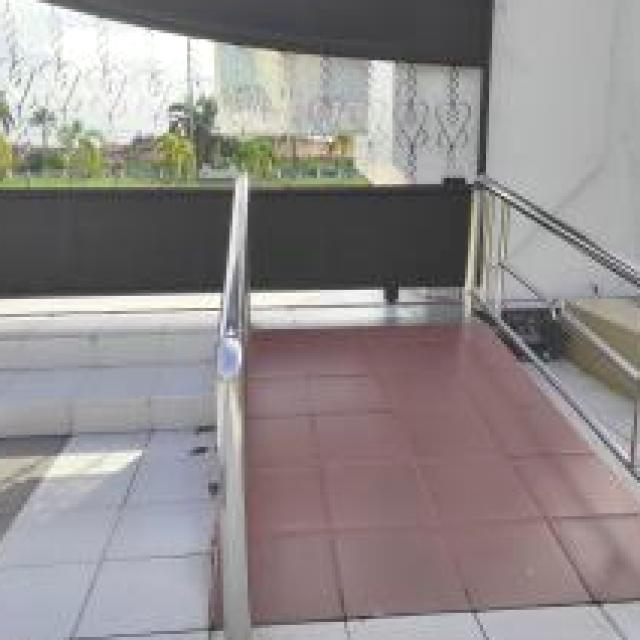upstair: (253, 320, 620, 584)
